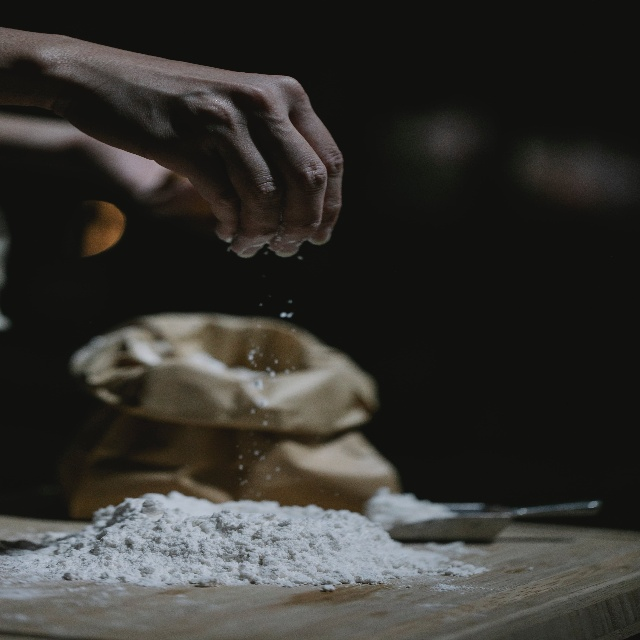Sin_guantes: (59, 40, 344, 259)
